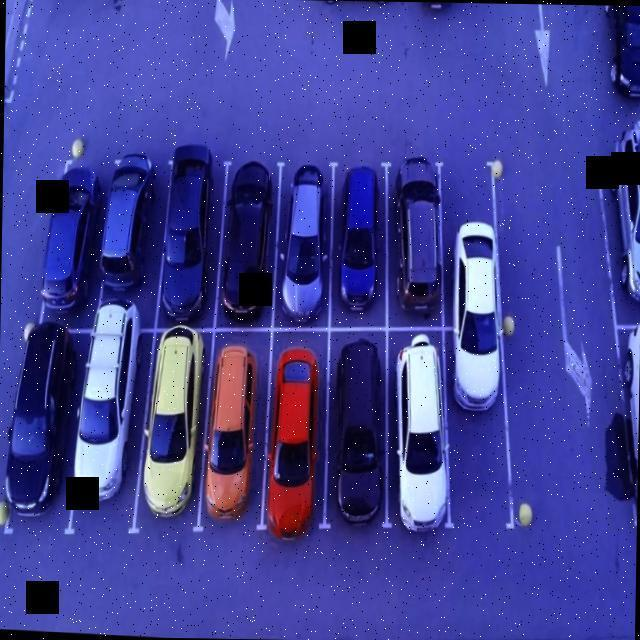car: (436, 327, 518, 518), (199, 326, 271, 532), (136, 326, 208, 532), (8, 336, 82, 531), (380, 324, 448, 528), (78, 329, 144, 531), (38, 148, 106, 334), (377, 160, 454, 324), (264, 322, 326, 522), (433, 160, 510, 320), (326, 159, 396, 324), (321, 332, 381, 518), (217, 156, 281, 330), (160, 155, 224, 324), (106, 153, 166, 327), (270, 166, 334, 316), (592, 150, 640, 320), (610, 329, 640, 522)
